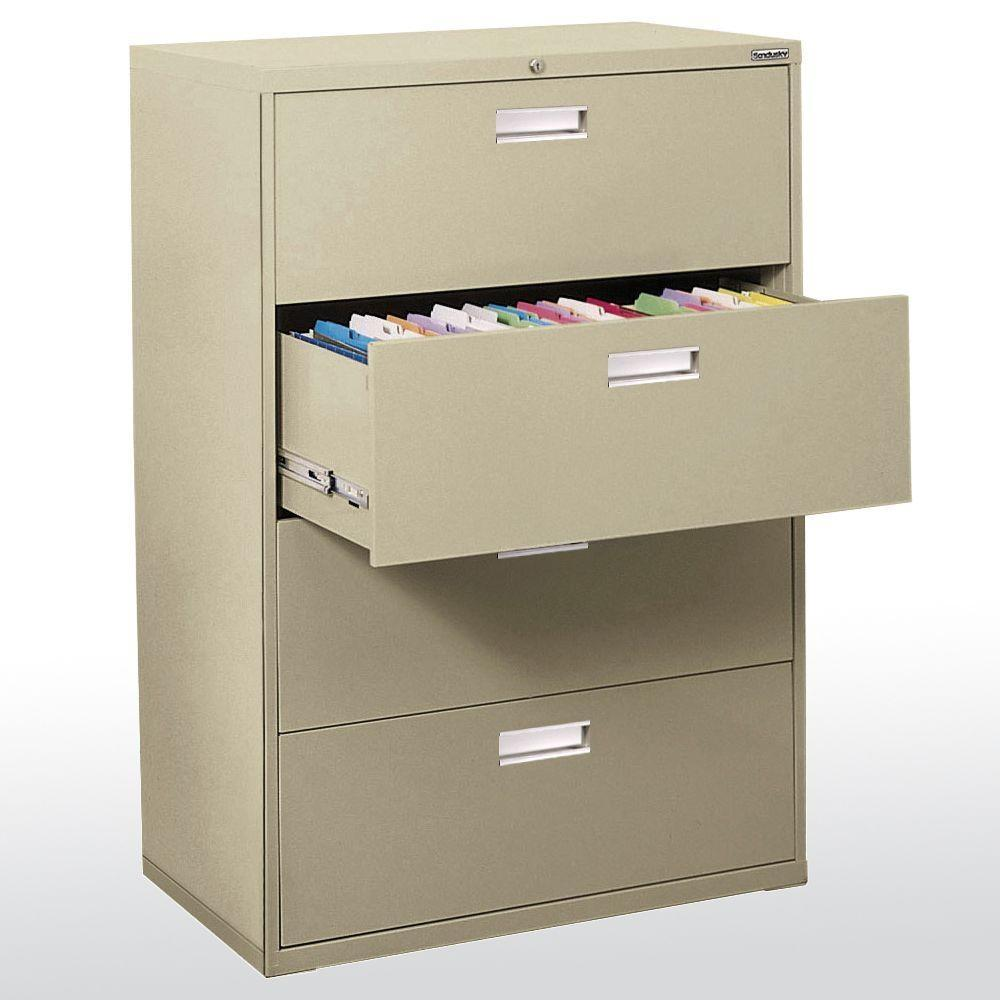Filing Cabinet: (258, 37, 912, 979)
